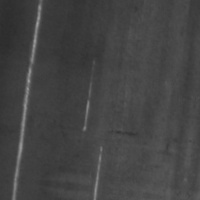scratches: (11, 0, 48, 181)
